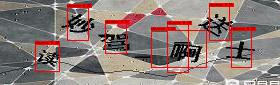chinese: (195, 11, 233, 40), (222, 38, 257, 66), (166, 40, 207, 61), (101, 31, 131, 57), (65, 15, 97, 35), (35, 46, 61, 67)
